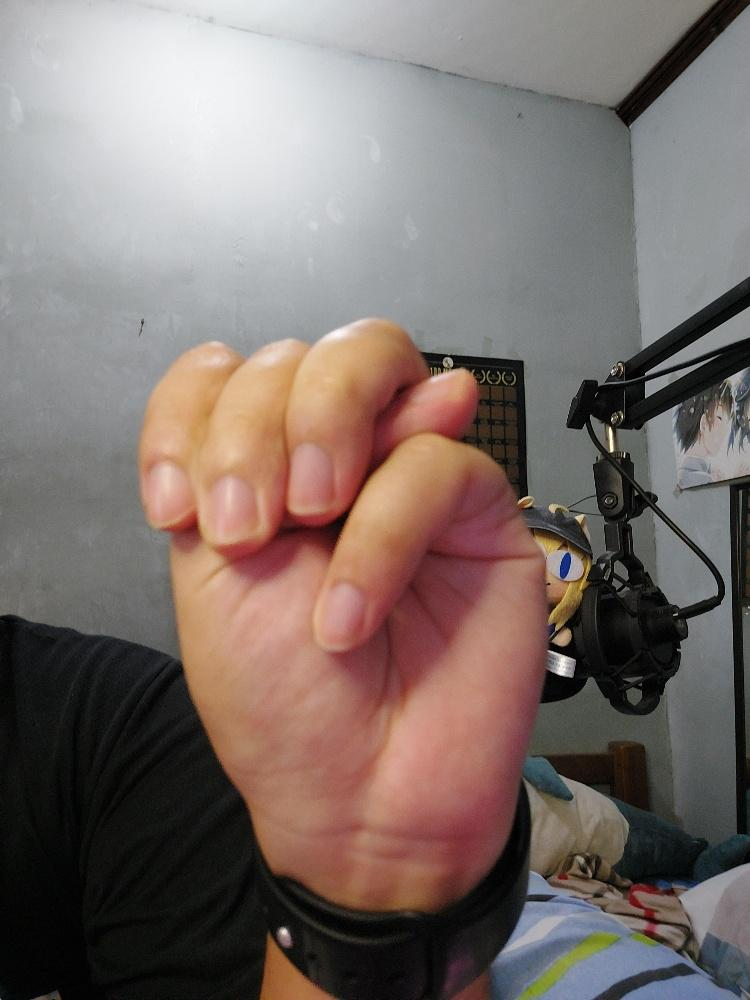m: (138, 309, 550, 824)
